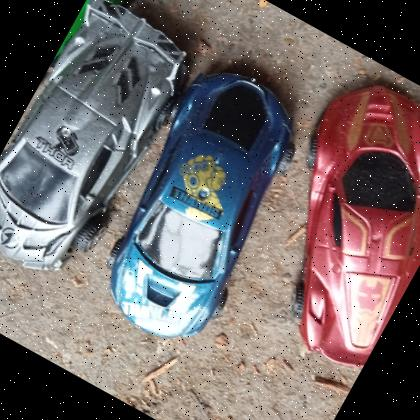Car: (72, 52, 329, 362), (217, 62, 420, 377), (0, 0, 207, 296)
